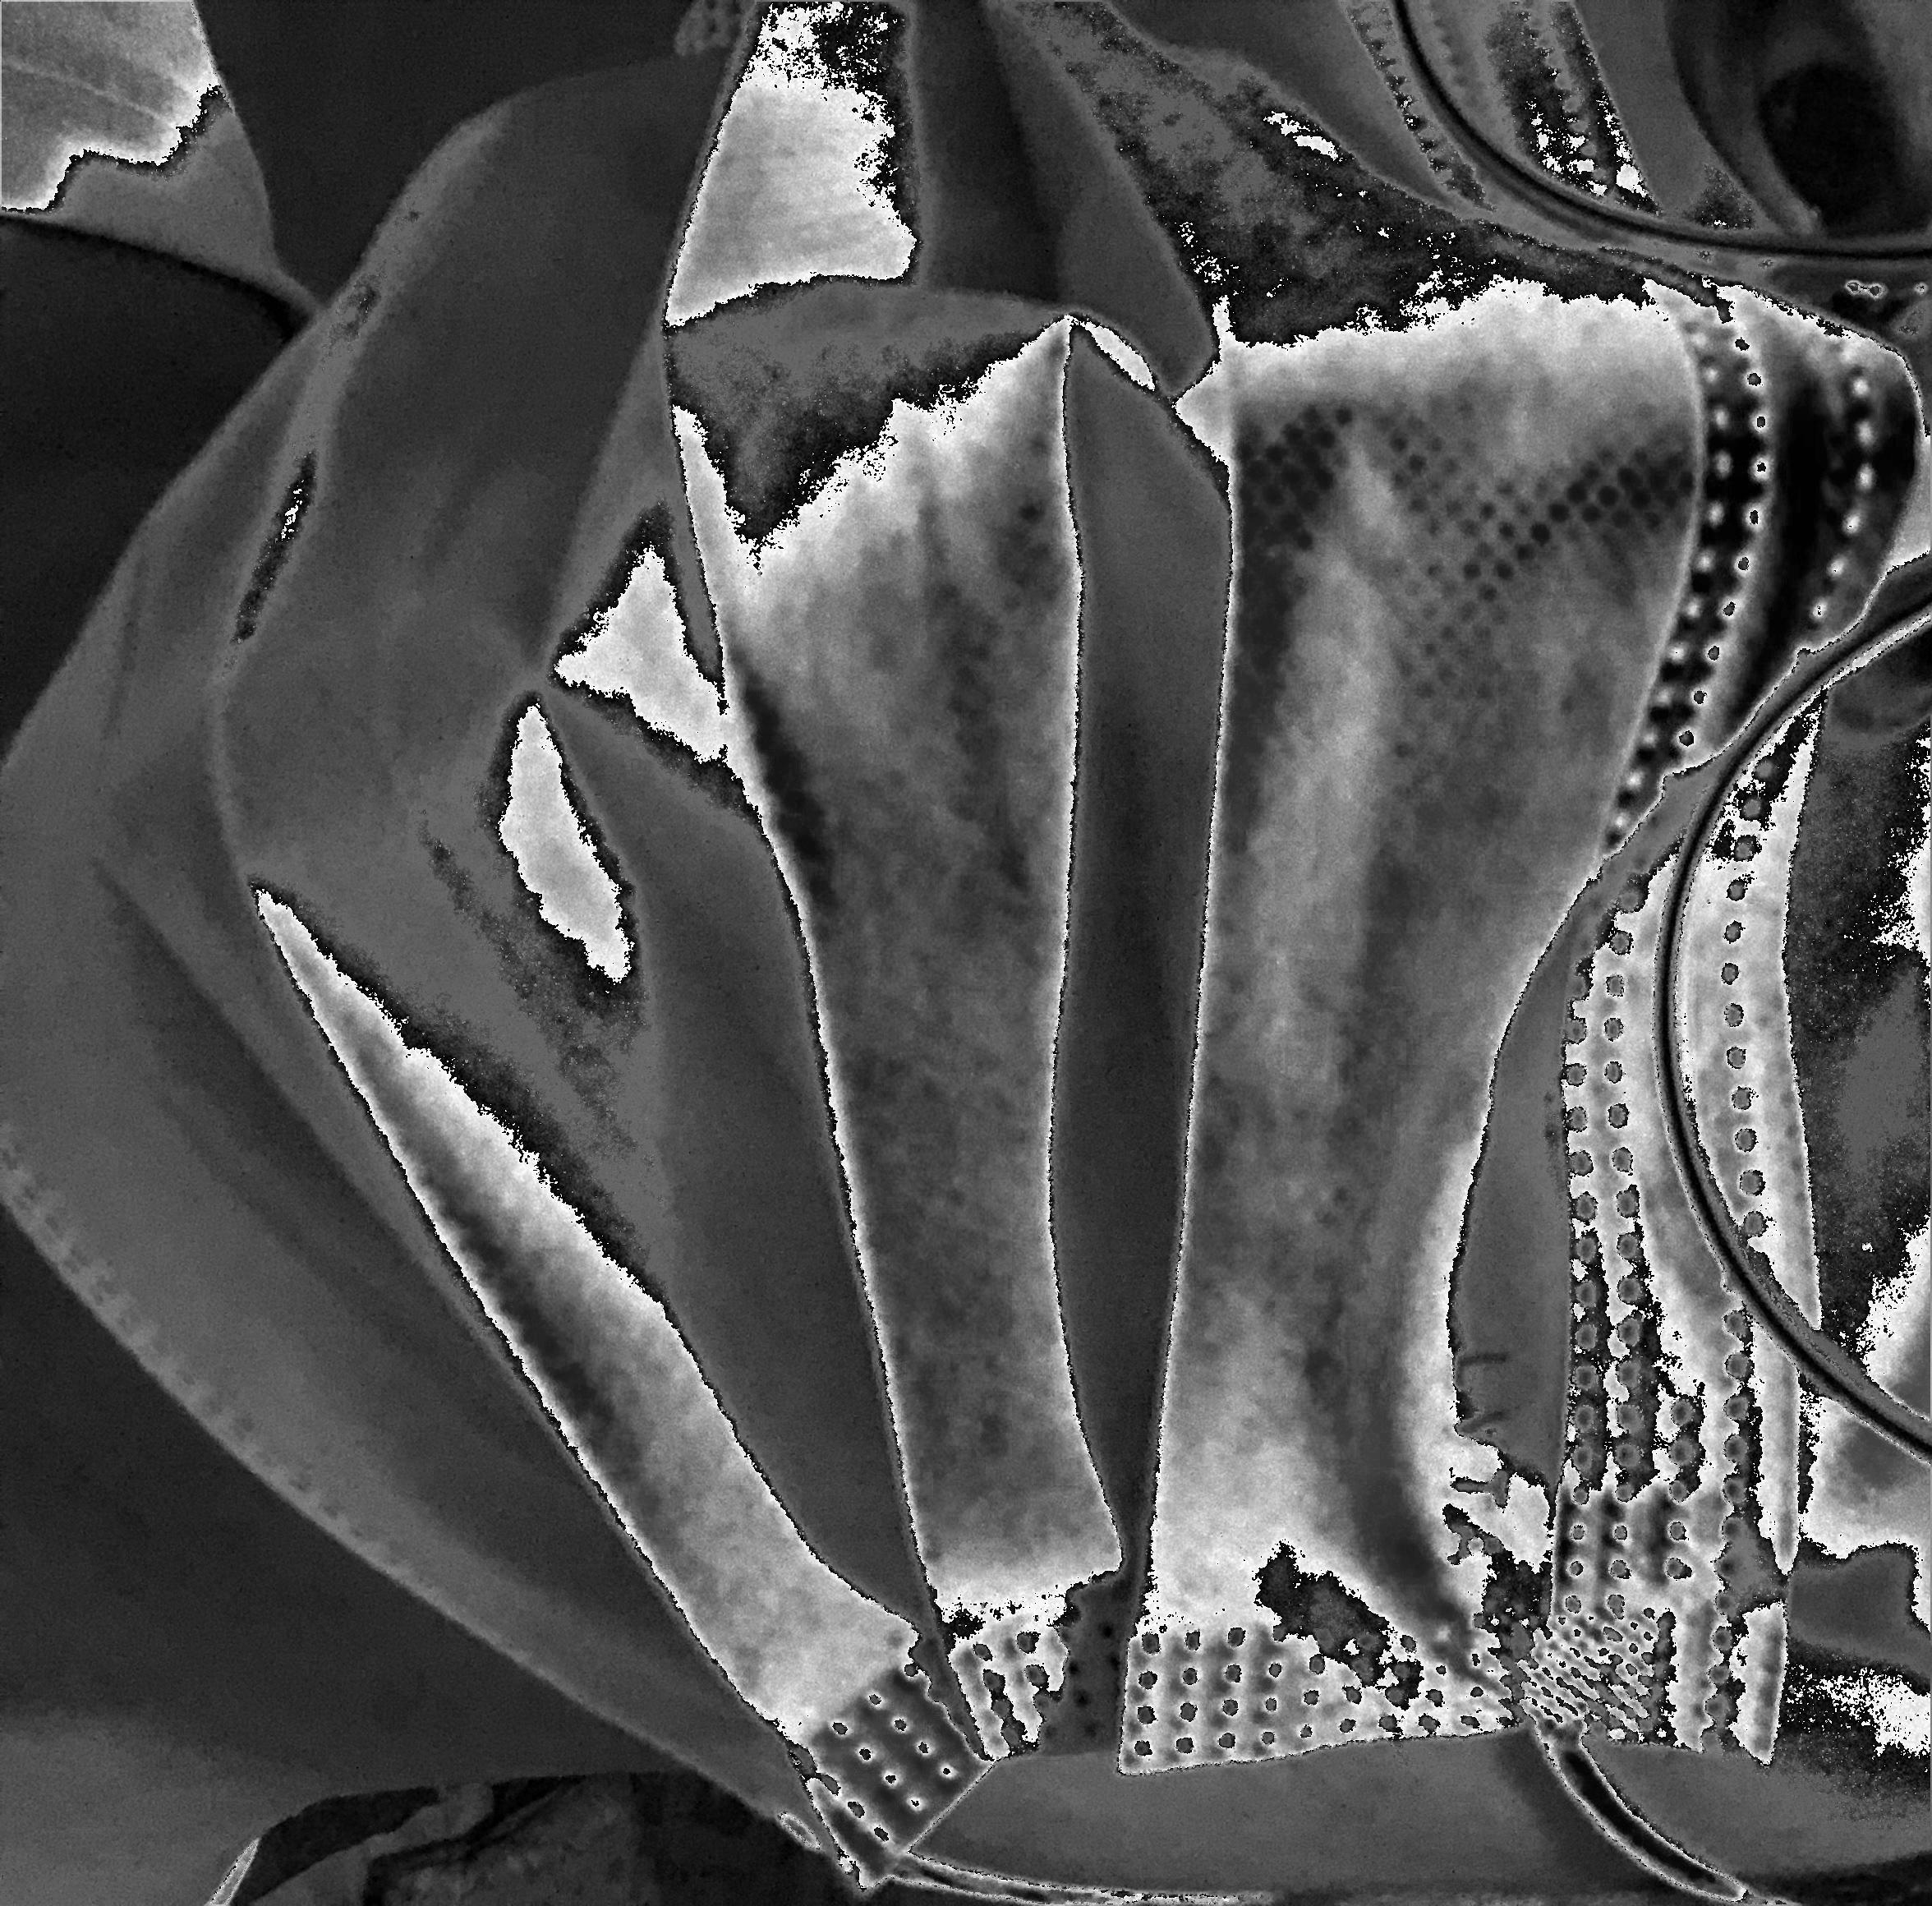High GSM: (1223, 241, 1578, 852), (698, 58, 967, 323)
Undefined Area: (0, 5, 553, 1772), (1698, 621, 1932, 1461)
